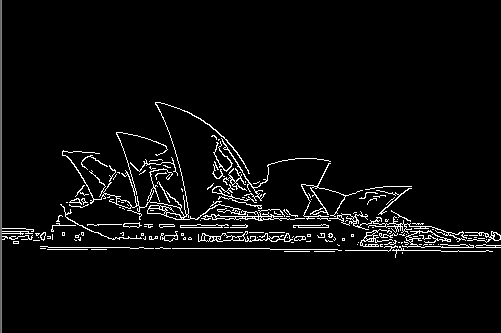opera house: (44, 95, 426, 246)
